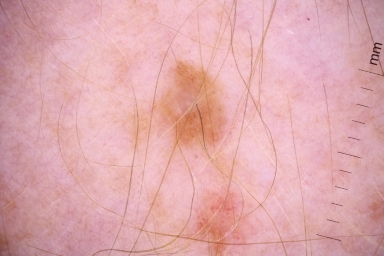melanoma: (155, 64, 230, 148), (197, 191, 243, 256)
